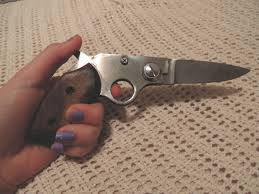knife: (17, 44, 255, 150)
